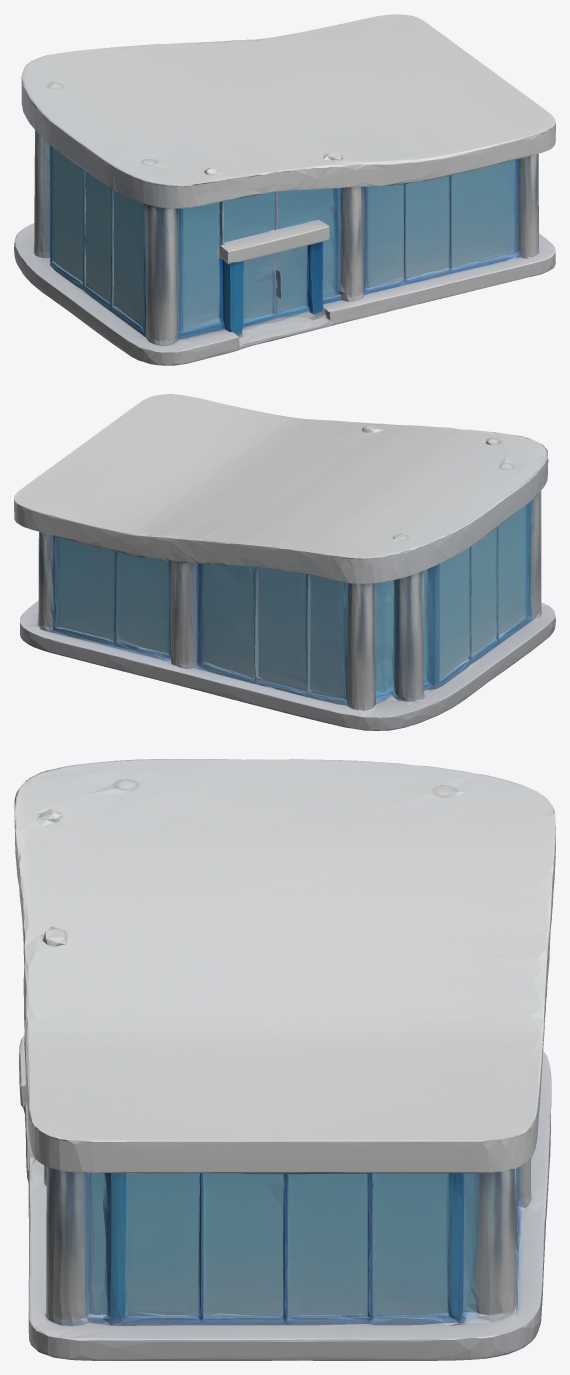
The model's file is car_showroom.glb.
The picture shows the model from 3 angles, top to bottom: view 1: azimuth 30°, elevation 25°; view 2: azimuth 150°, elevation 25°; view 3: azimuth 270°, elevation 25°; orthographic projection. The views are drawn at different scales.
Visible parts, largest first — view 1: geometry_0; view 2: geometry_0; view 3: geometry_0.
Part boxes in pixels (bbox=[...]): geometry_0: bbox=[14, 14, 555, 365]; geometry_0: bbox=[14, 394, 555, 730]; geometry_0: bbox=[14, 759, 555, 1360].
Bounding box in the file's own units: 1 × 0.4057 × 0.7082.
1 material, 1 textured.
